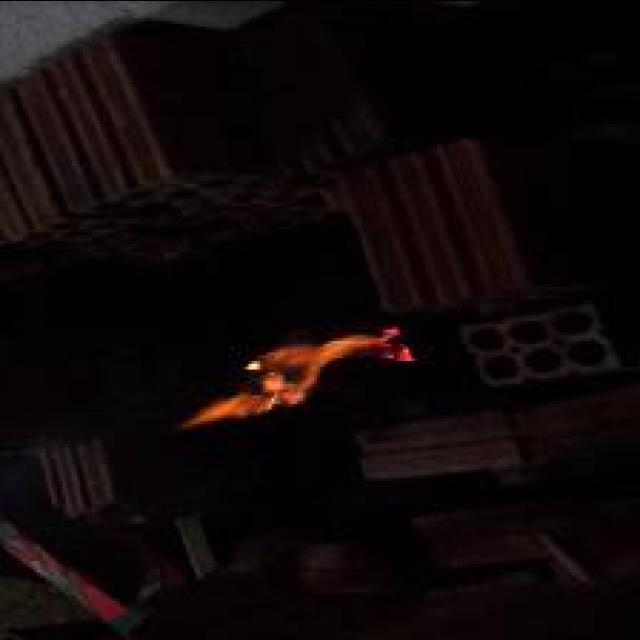Fire: (186, 326, 414, 428)
